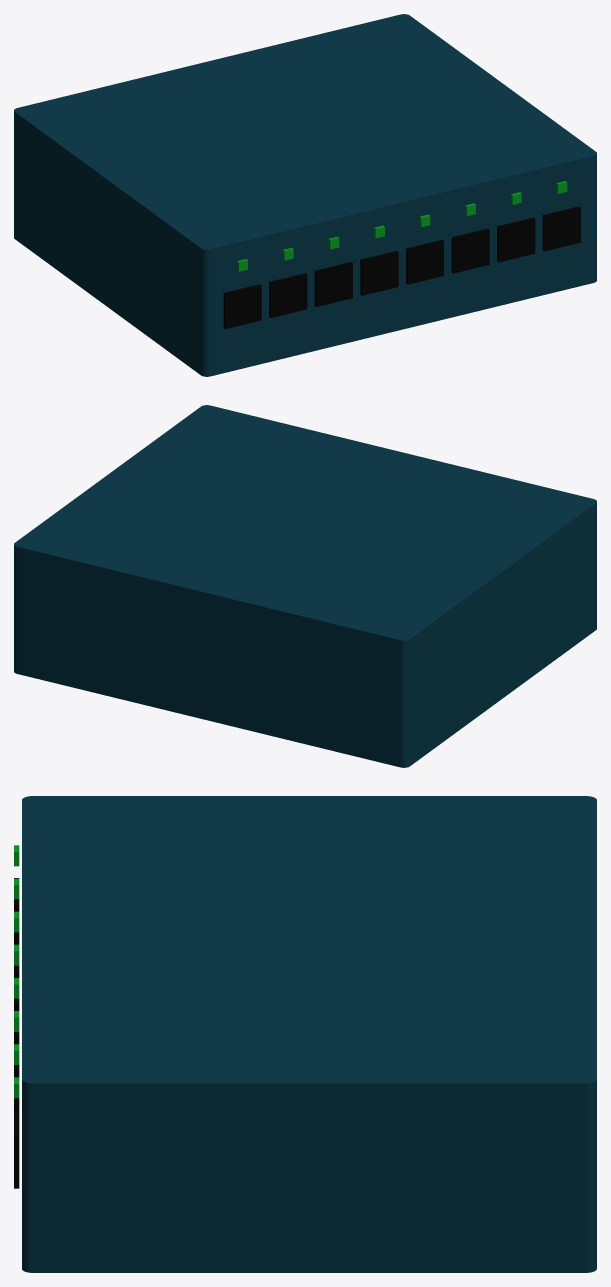
File: net_switch.glb
3 views of the same model, one above another, from view 1: azimuth 30°, elevation 25°; view 2: azimuth 150°, elevation 25°; view 3: azimuth 270°, elevation 25° (orthographic). The views are drawn at different scales.
Visible parts, largest first — view 1: switch; view 2: switch; view 3: switch.
Boxes of the visible parts, x1=… form: switch: x1=14, y1=14, x2=596, y2=376; switch: x1=14, y1=405, x2=596, y2=767; switch: x1=14, y1=796, x2=596, y2=1272.
Size of the model in its own units: 0.13 by 0.04 by 0.1115.
